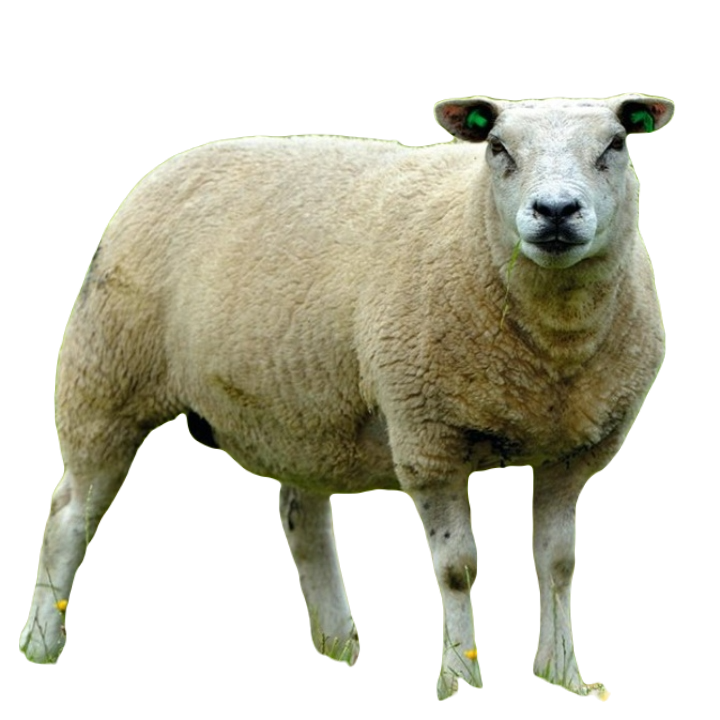Sheep: (13, 86, 680, 705)
